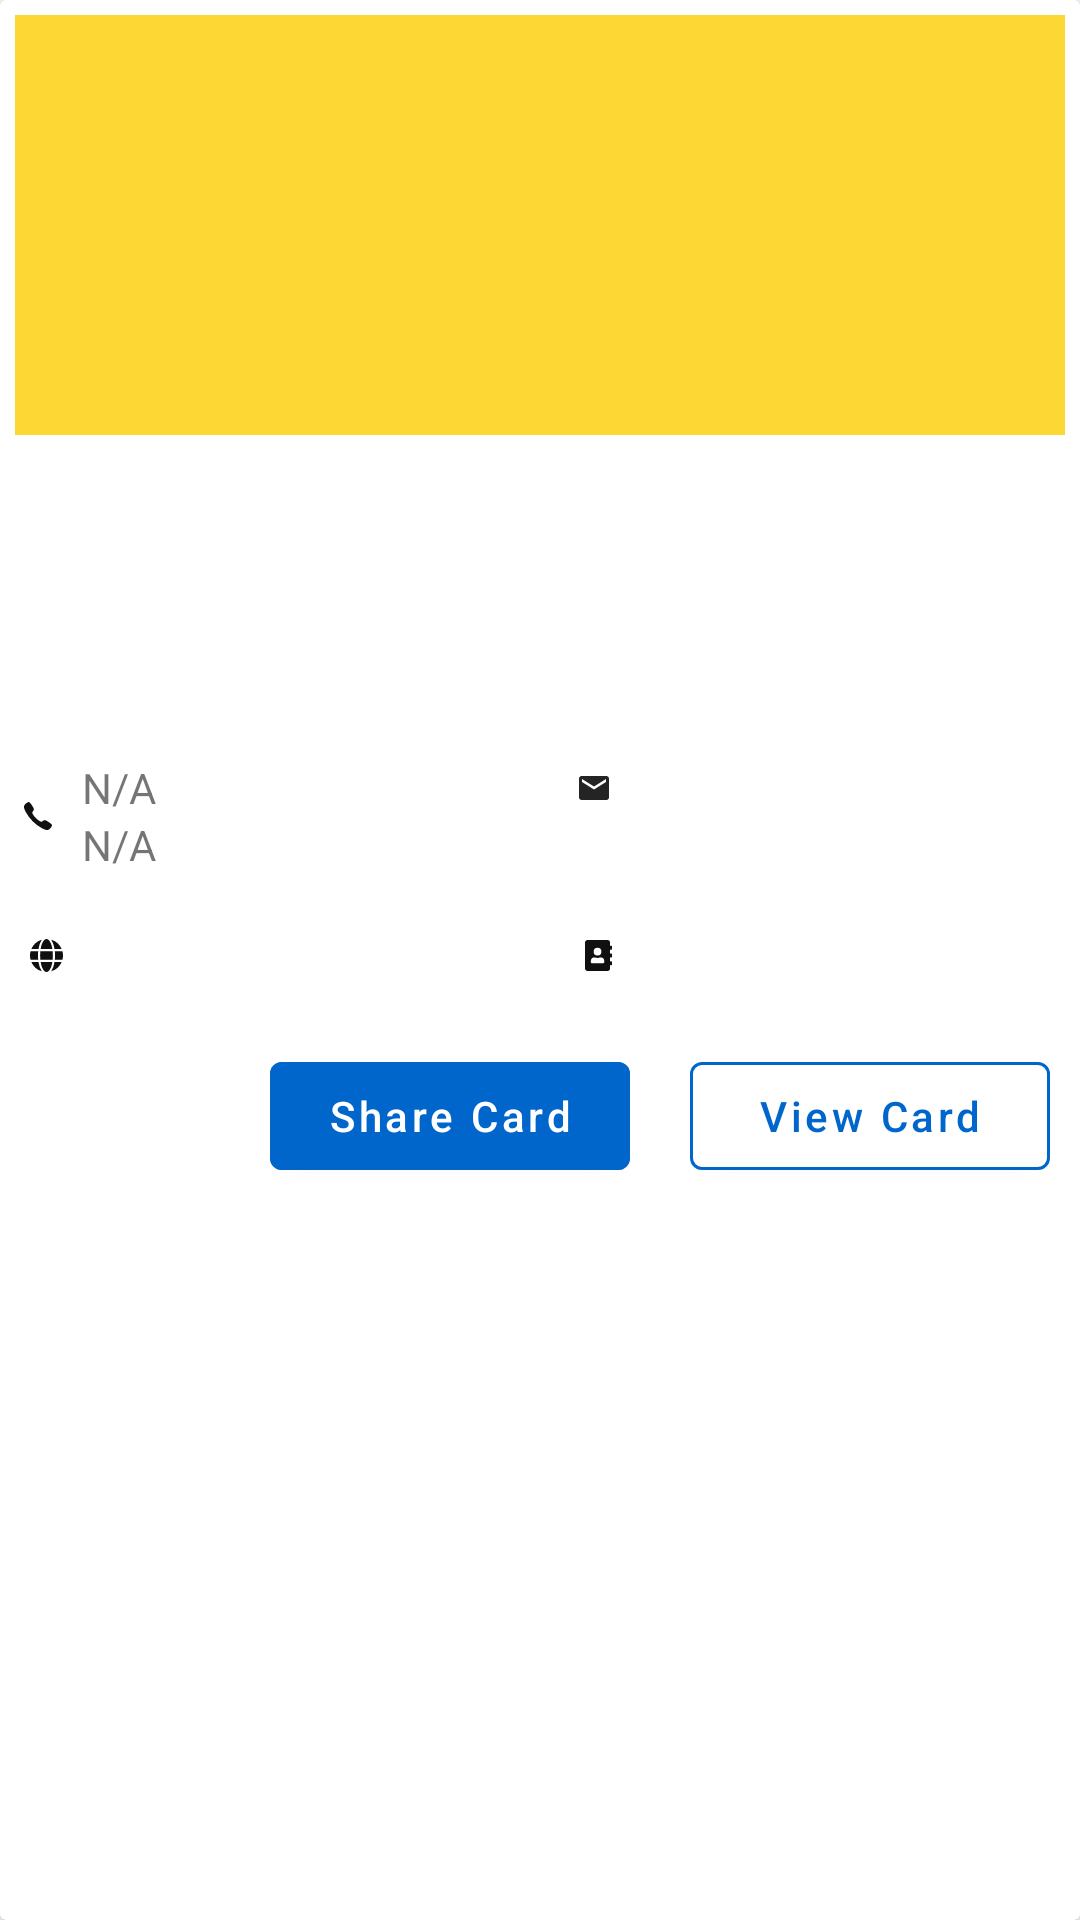

Named icons in this screenshot (1080x1920) and their bounding boxes, (x1, y1, x2, y2):
address book: (585, 940, 612, 971)
call: (24, 802, 52, 830)
email: (579, 776, 609, 800)
website: (30, 939, 63, 972)
